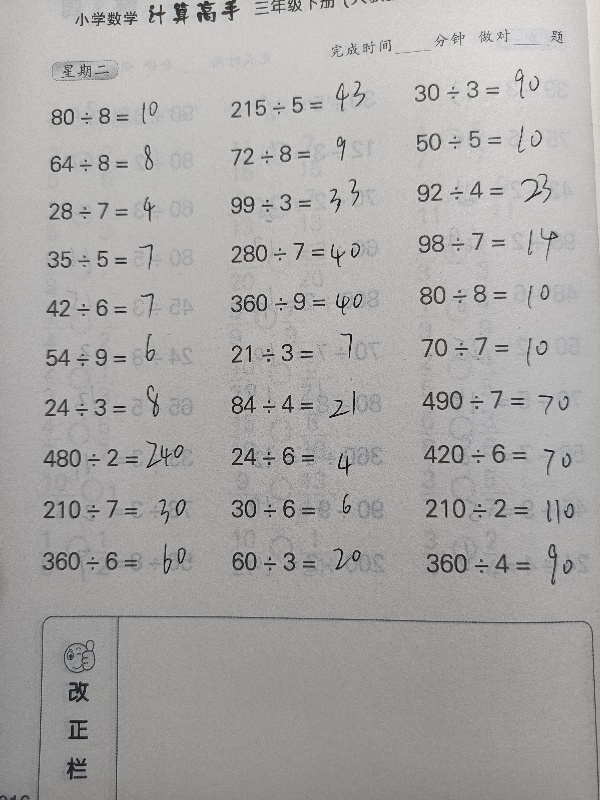equation: (35, 433, 215, 476), (39, 331, 218, 374), (37, 382, 217, 424), (222, 328, 402, 369), (223, 235, 403, 276), (222, 284, 402, 322), (418, 546, 598, 581), (224, 544, 404, 579), (34, 543, 214, 578), (417, 491, 597, 526), (223, 491, 403, 526), (223, 438, 403, 473), (415, 436, 595, 471), (222, 386, 402, 421), (414, 383, 594, 418), (410, 276, 590, 311), (34, 492, 214, 526), (413, 329, 593, 363), (407, 123, 587, 157), (406, 73, 586, 107), (37, 291, 217, 324), (40, 243, 220, 276), (409, 225, 589, 258), (41, 195, 221, 228), (222, 186, 402, 219), (408, 174, 588, 207), (221, 138, 401, 171), (222, 90, 402, 123), (44, 145, 171, 180), (44, 94, 167, 129)
